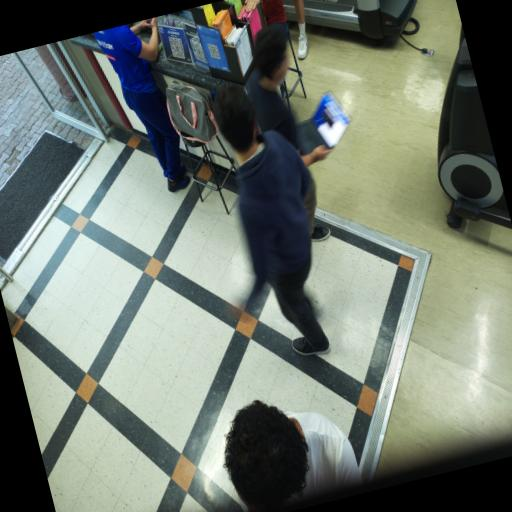person: (214, 84, 330, 355), (95, 17, 189, 191), (225, 400, 362, 511), (249, 28, 300, 149), (245, 0, 289, 38), (293, 0, 308, 59)
